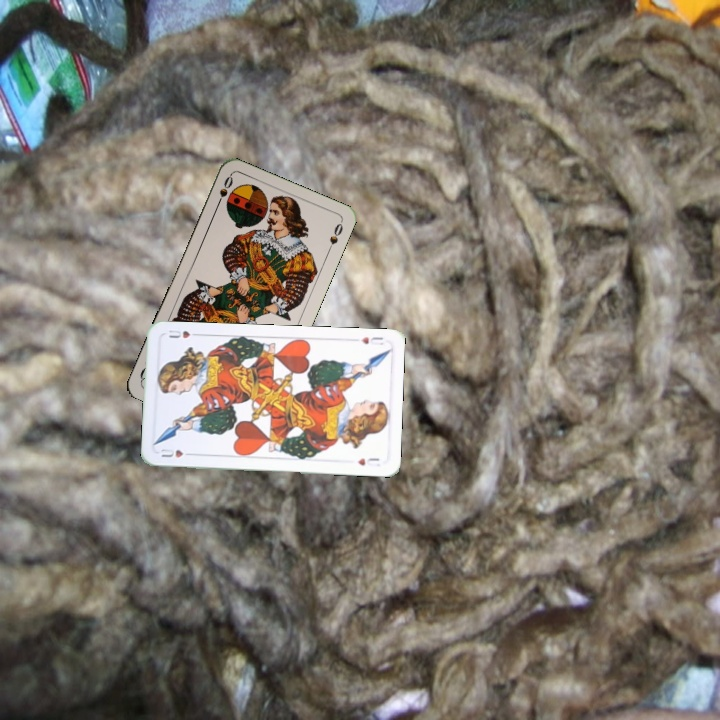HU: (157, 445, 196, 460), (357, 333, 385, 348)
SO: (212, 172, 236, 210)
